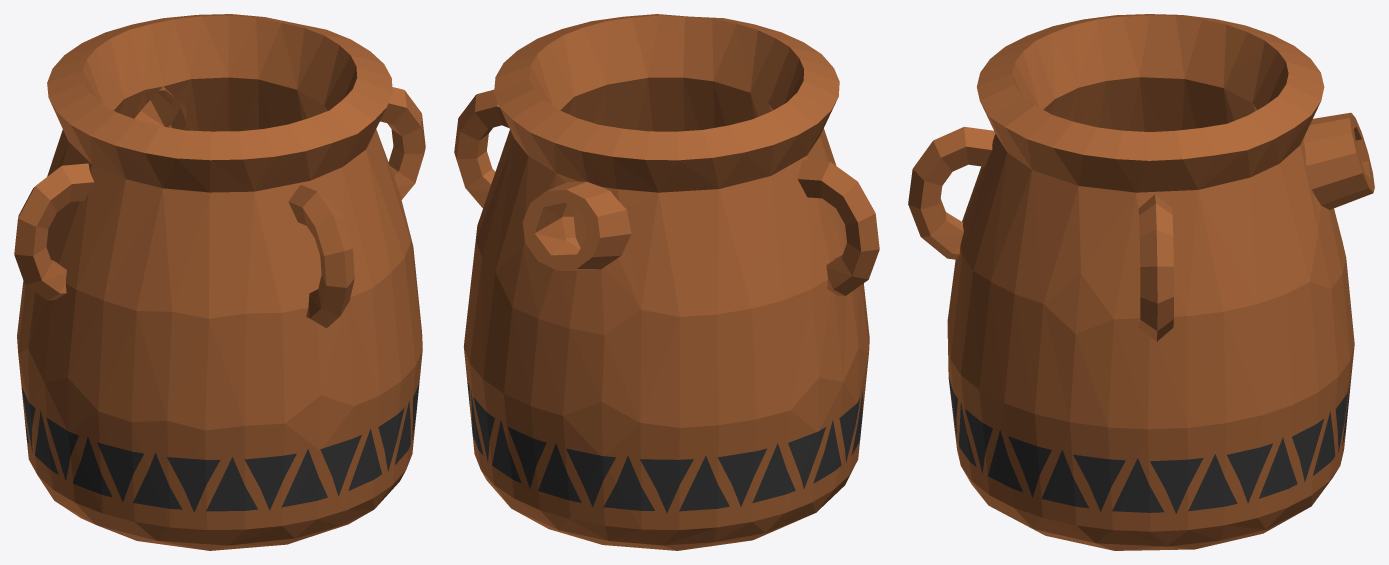
Rendered from Pottery 20_3.fbx.
3 views of the same model, side by side, from view 1: azimuth 30°, elevation 25°; view 2: azimuth 150°, elevation 25°; view 3: azimuth 270°, elevation 25° (orthographic).
Visible parts, largest first — view 1: Pottery 20_3; view 2: Pottery 20_3; view 3: Pottery 20_3.
Boxes of the visible parts, x1,y1,x2,y2 form: Pottery 20_3: (14,14,425,550); Pottery 20_3: (454,14,879,550); Pottery 20_3: (908,14,1374,550).
Bounding box in the file's own units: 62.86 × 59.43 × 60.51.
